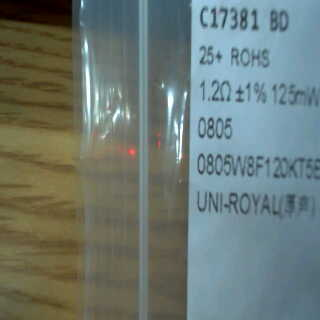1.2R: (196, 73, 238, 148)
